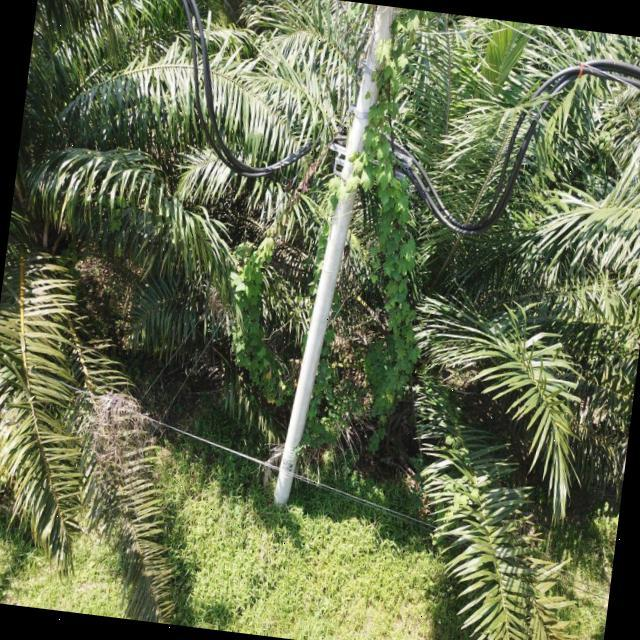critical vegetation: (202, 16, 468, 458)
